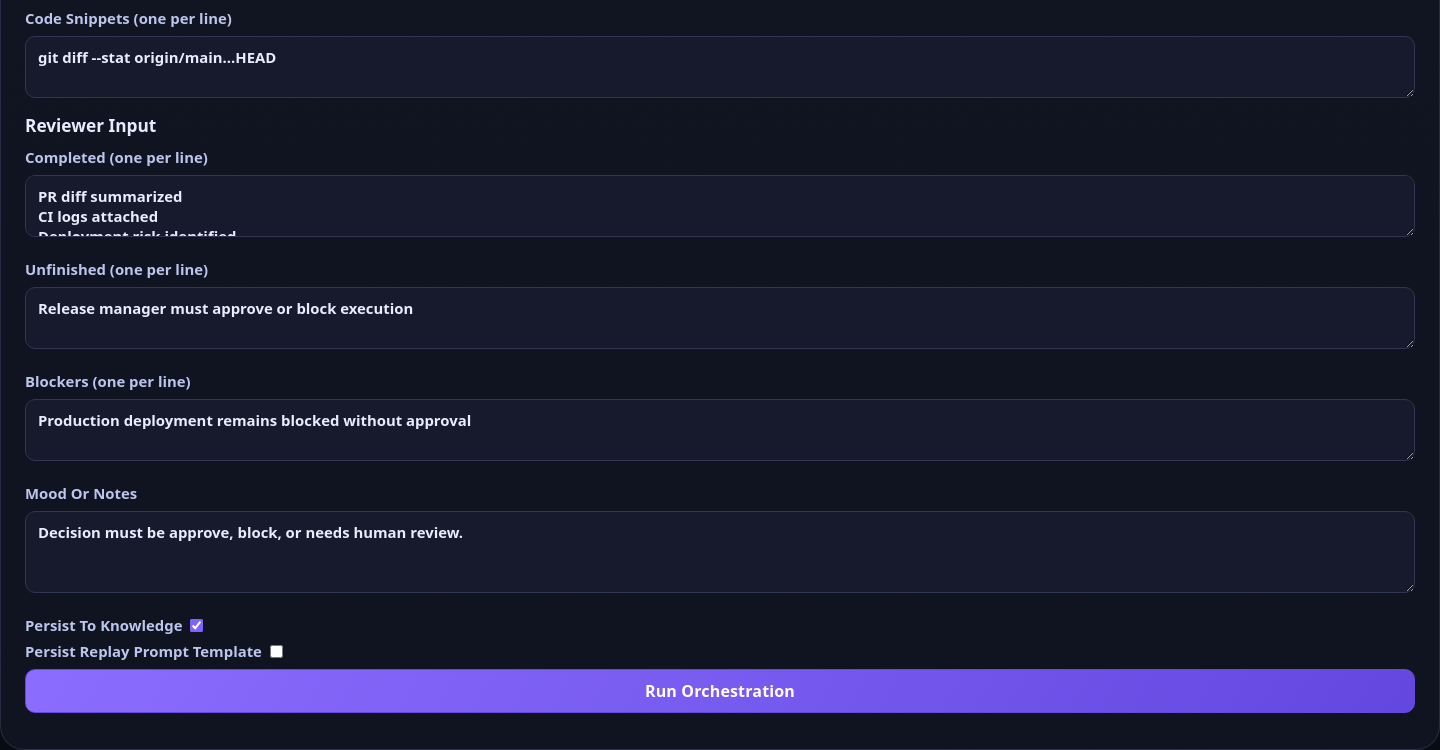
it: orchestration workflow › runs orchestration and renders step replay
(page scrolled)
Click the button "Run Orchestration".
click(720, 691)  # box [25,669,1415,713]
(page scrolled)
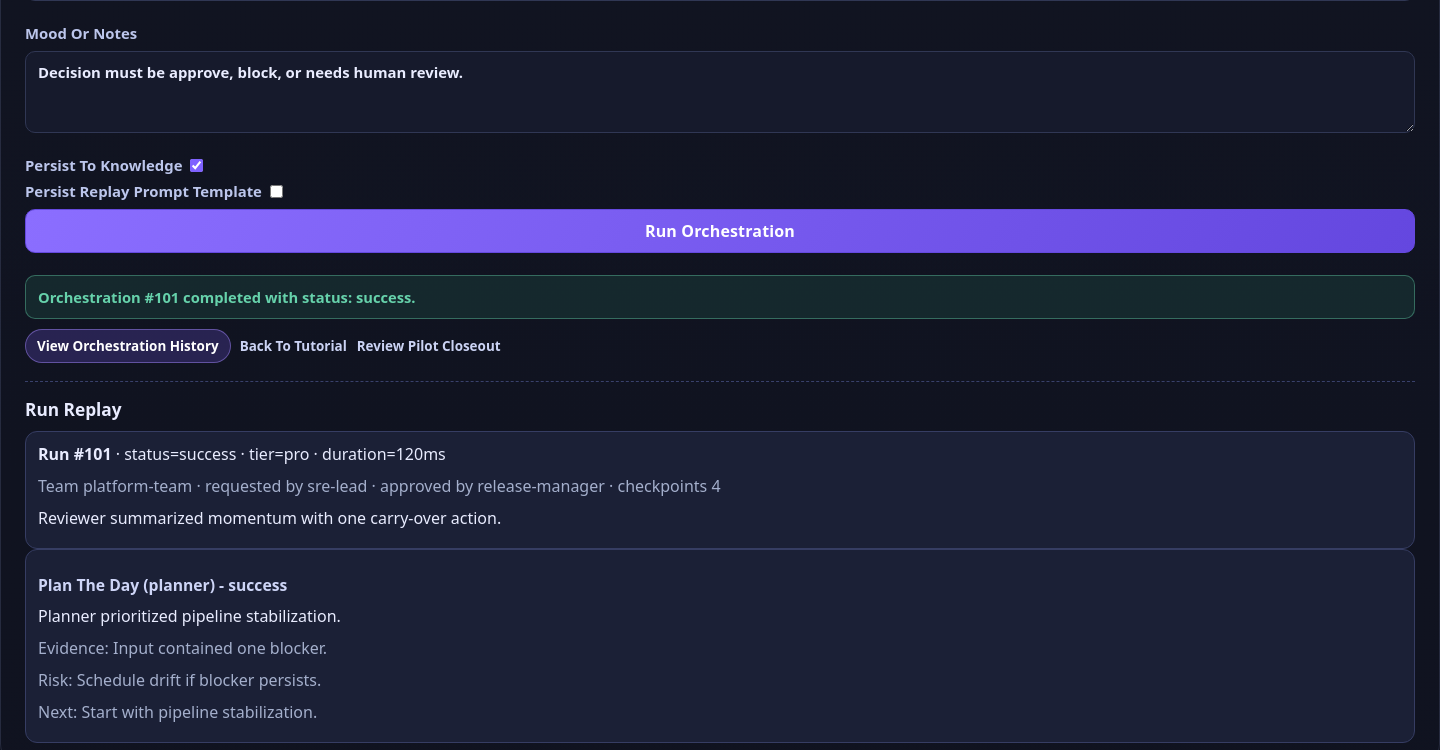
Expected: the heading "Run Replay" is shown, [25,398,122,421]
Expected: the text "Run #101" is shown, [38,443,112,465]
Expected: the text "Planner prioritized pipeline stabilization." is shown, [38,605,341,627]
